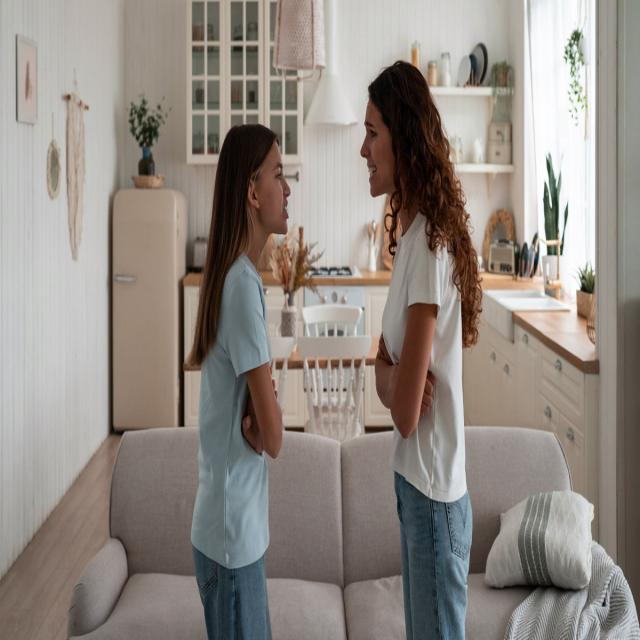adult: (359, 58, 475, 640)
child: (192, 124, 290, 640)
